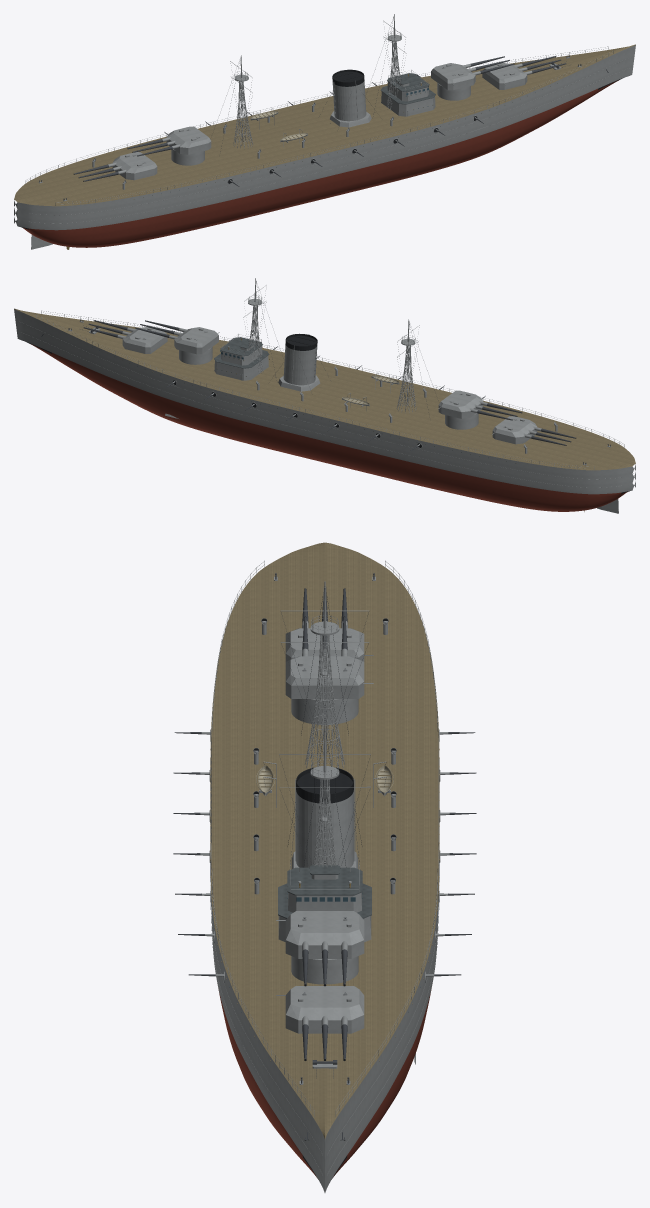
Rendered from pennsylvania.glb.
The picture shows the model from 3 angles, top to bottom: view 1: azimuth 30°, elevation 25°; view 2: azimuth 150°, elevation 25°; view 3: azimuth 270°, elevation 25°; orthographic projection. The views are drawn at different scales.
Visible parts, largest first — view 1: Pennsylvania class; view 2: Pennsylvania class; view 3: Pennsylvania class.
Boxes of the visible parts, x1=… form: Pennsylvania class: x1=14, y1=14, x2=635, y2=249; Pennsylvania class: x1=14, y1=278, x2=635, y2=513; Pennsylvania class: x1=173, y1=542, x2=476, y2=1192.
Bounding box in the file's own units: 185 × 42.65 × 39.24.
9 materials, 8 textured.
